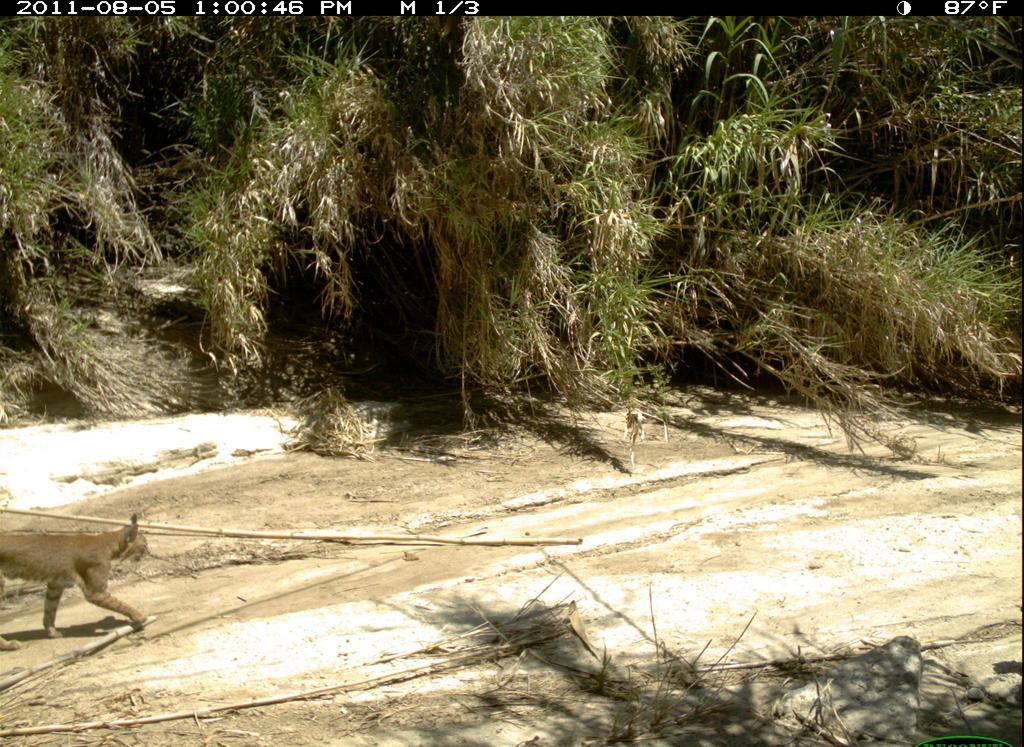bobcat: (1, 509, 162, 658)
